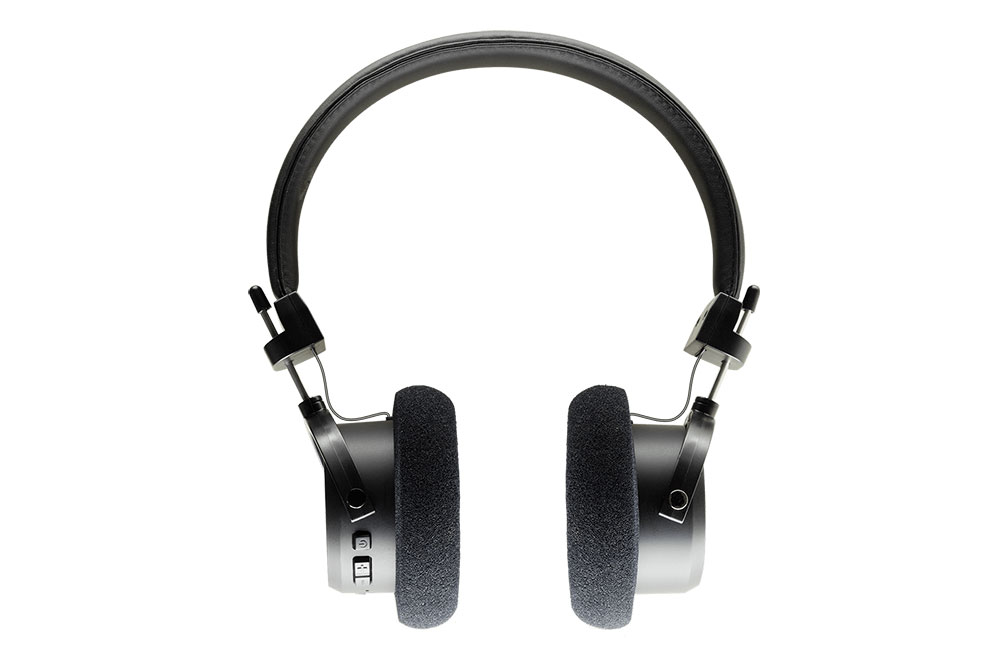Headphone: (238, 26, 768, 652)
